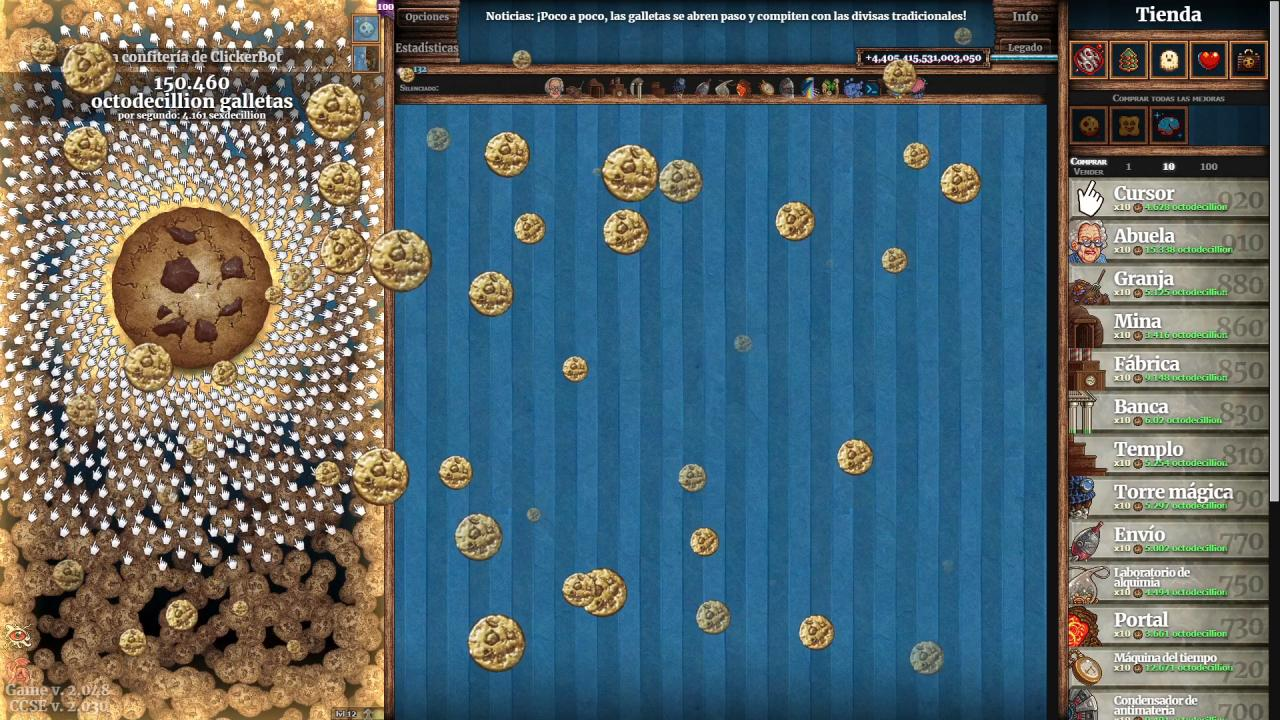GoldenCookie: (368, 227, 435, 294), (466, 612, 526, 674), (305, 82, 365, 142), (352, 448, 410, 507), (602, 144, 658, 203), (60, 40, 118, 96), (578, 566, 630, 618), (122, 342, 174, 393), (453, 510, 504, 562), (601, 207, 650, 256), (466, 269, 514, 319), (320, 227, 370, 275), (62, 126, 110, 173), (484, 130, 530, 178), (317, 161, 363, 207), (658, 159, 706, 203), (774, 199, 818, 243), (940, 162, 982, 206), (836, 437, 876, 478), (798, 613, 836, 652), (560, 571, 598, 609), (694, 599, 732, 636), (882, 58, 919, 95), (910, 639, 946, 676), (438, 455, 474, 491), (512, 211, 548, 246), (52, 557, 86, 592), (66, 393, 100, 427), (166, 599, 200, 631), (689, 526, 721, 557), (902, 140, 933, 170), (561, 354, 591, 385), (677, 462, 707, 493), (284, 263, 316, 292), (118, 627, 148, 657), (30, 36, 59, 65), (880, 246, 909, 275), (314, 459, 342, 488), (425, 126, 451, 153), (213, 360, 237, 387), (953, 26, 974, 47), (512, 48, 532, 70), (187, 438, 207, 459), (733, 334, 754, 354), (264, 285, 284, 305), (231, 600, 251, 617), (399, 67, 417, 84), (285, 638, 303, 653), (526, 507, 543, 522)
